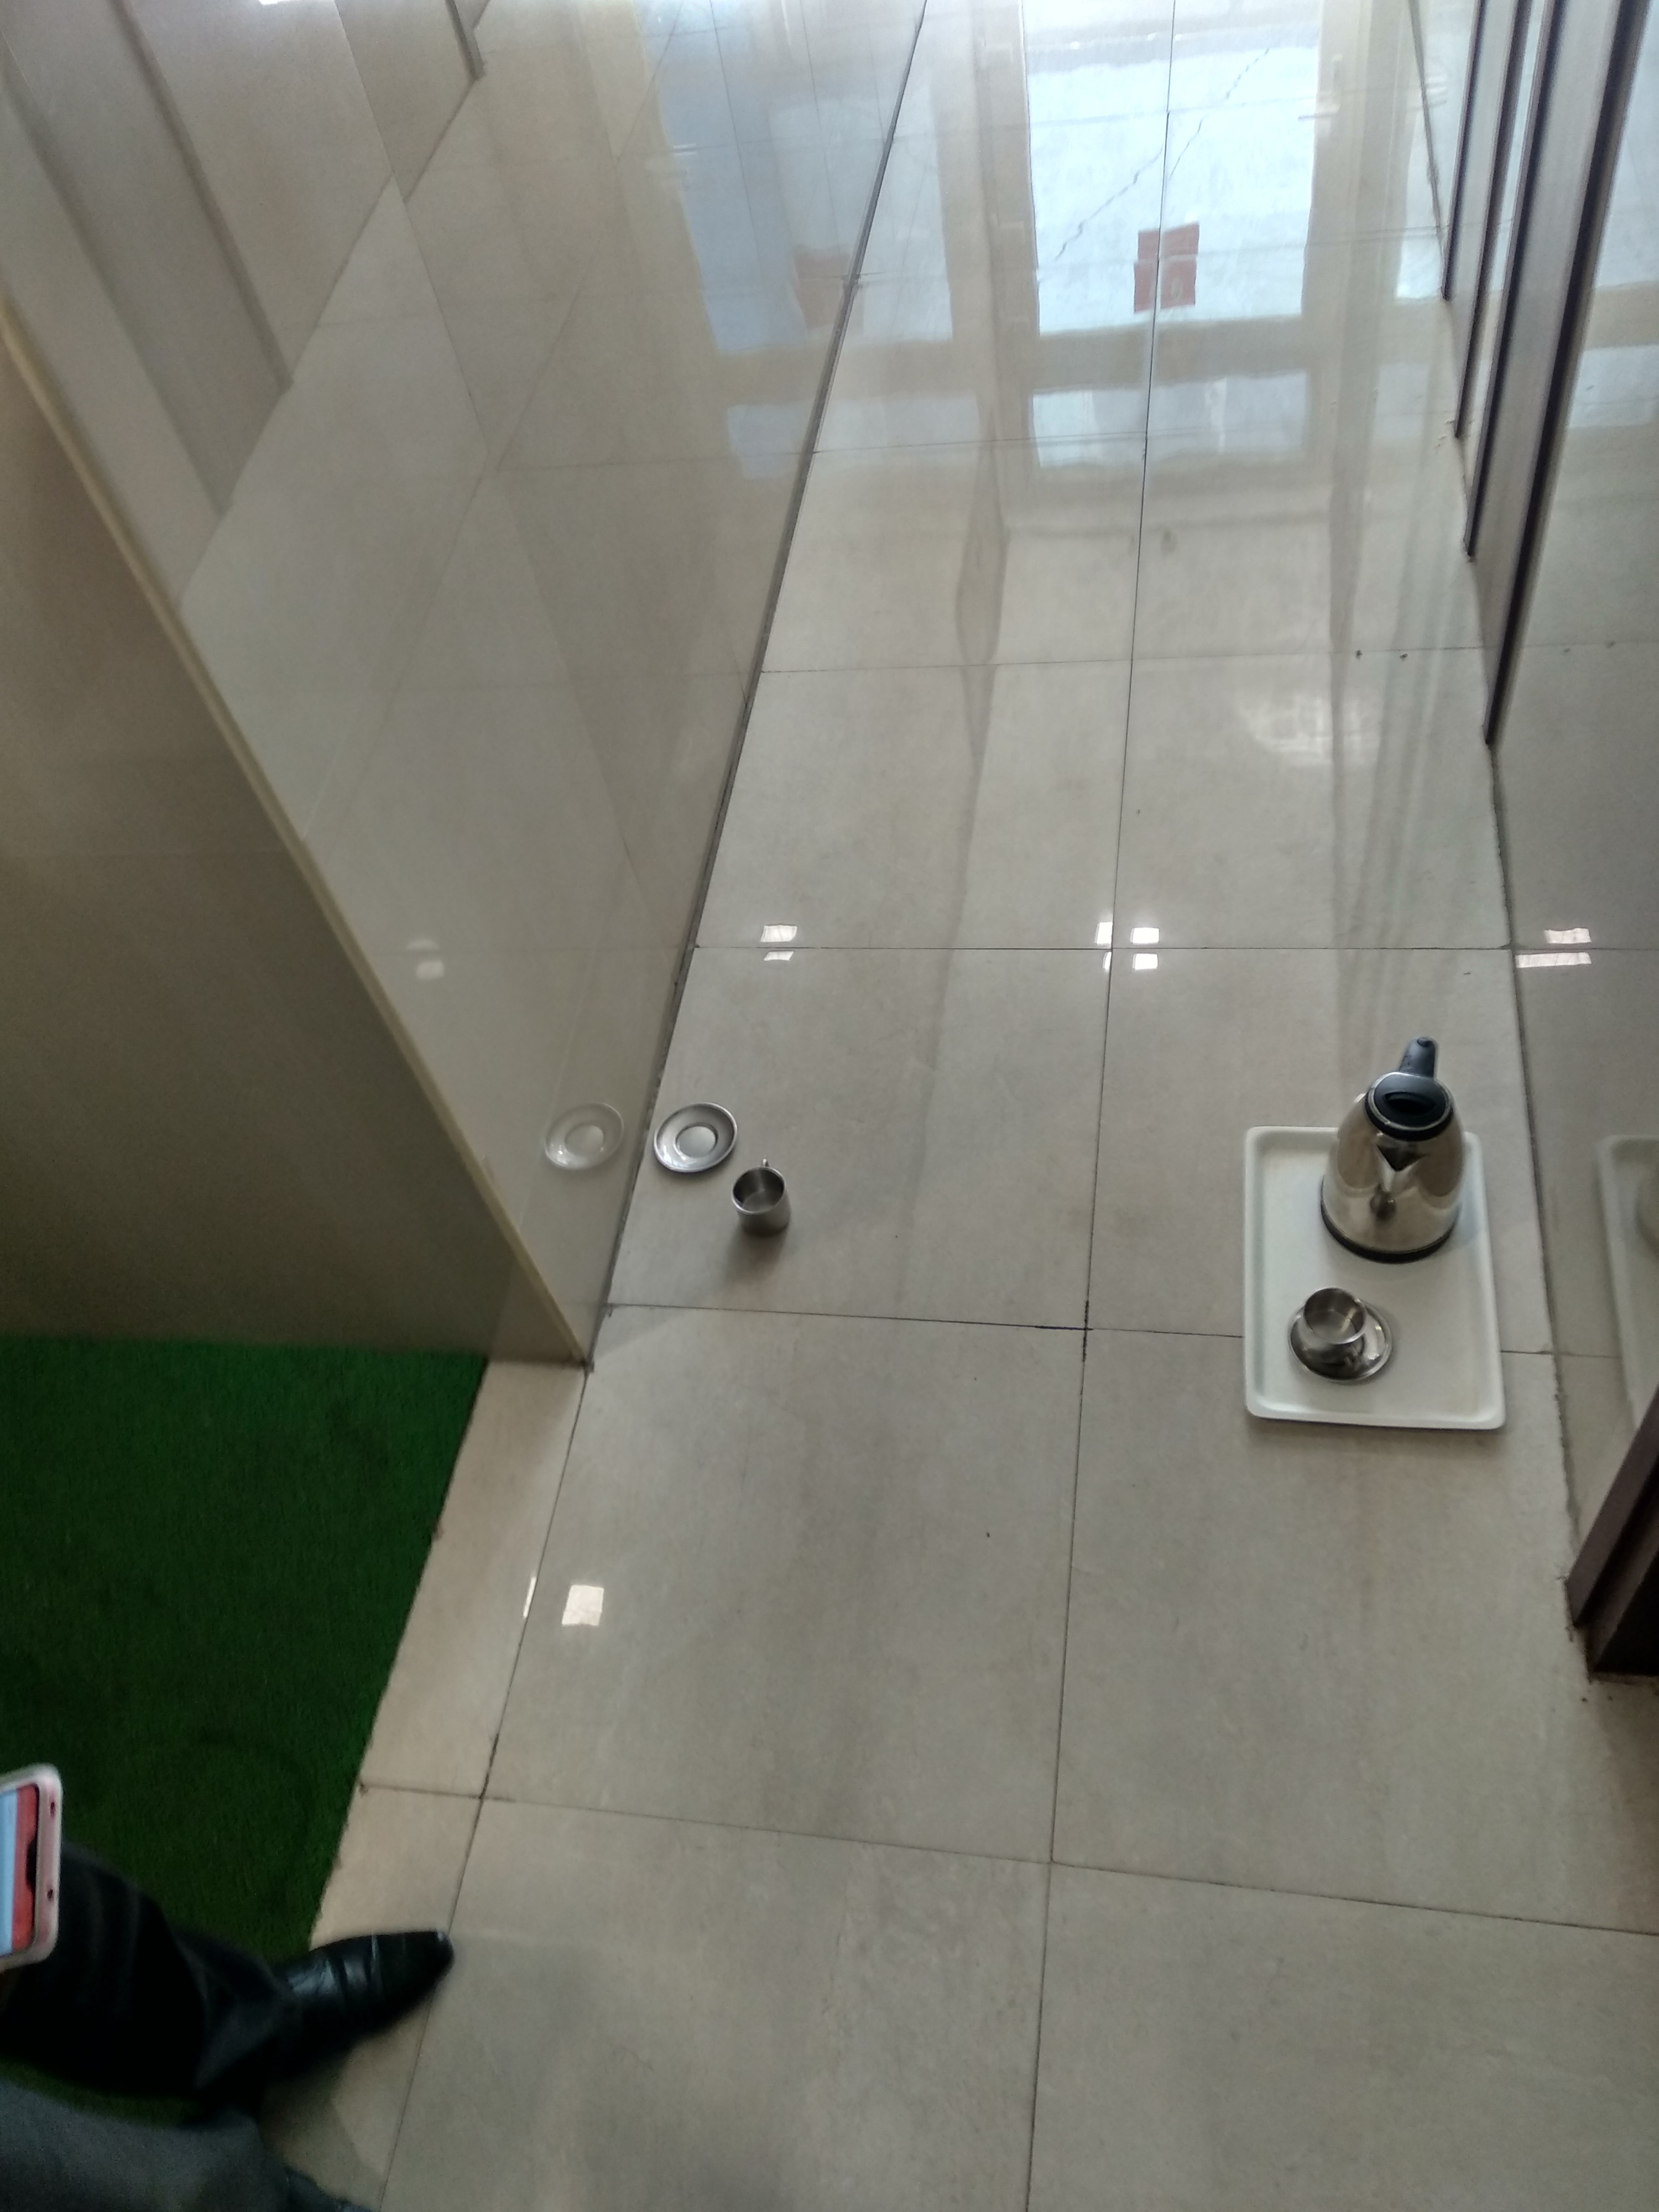CUP: (1300, 1287, 1371, 1364), (732, 1176, 803, 1237)
FLASK: (1321, 1059, 1485, 1261)
